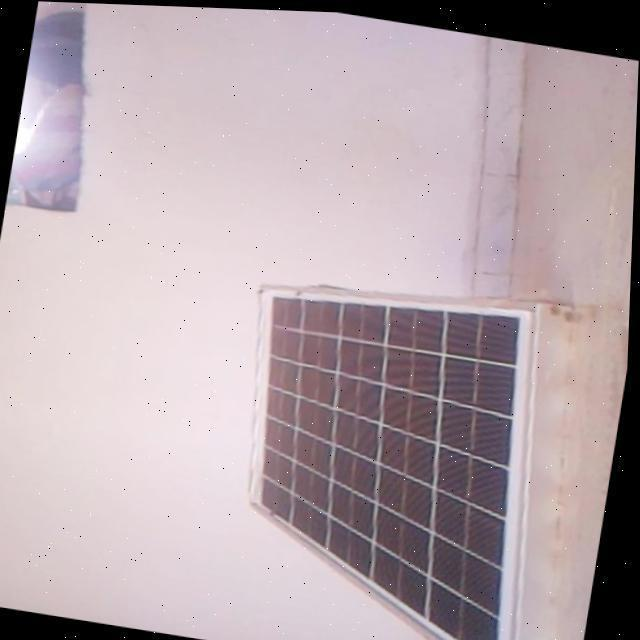Normal Solar Panel: (208, 257, 592, 640)
